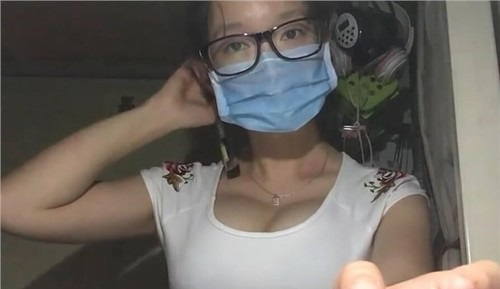face_mask: (209, 1, 328, 127)
